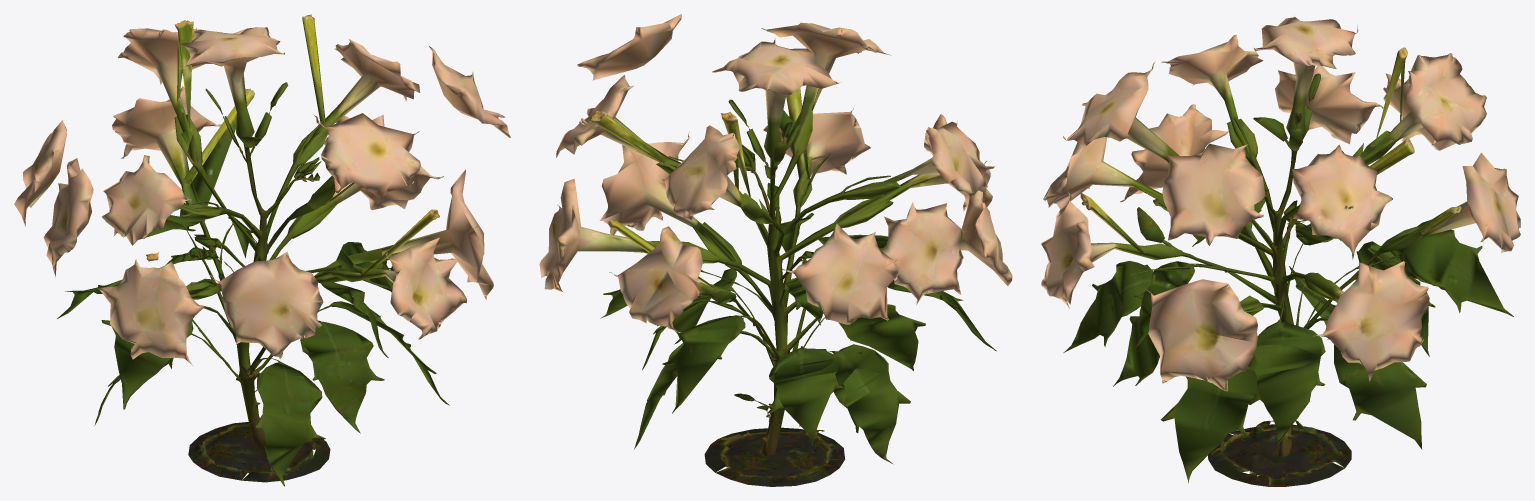
The model's file is ManTuoLuoHua.glb.
3 renders of one model, left to right at view 1: azimuth 30°, elevation 25°; view 2: azimuth 150°, elevation 25°; view 3: azimuth 270°, elevation 25°, orthographic.
Parts seen in each view (by area): view 1: tripo_node_64c2901f-b304-46fc-89b4-ee7e660b7f2e; view 2: tripo_node_64c2901f-b304-46fc-89b4-ee7e660b7f2e; view 3: tripo_node_64c2901f-b304-46fc-89b4-ee7e660b7f2e.
Part boxes in pixels (bbox=[...]): tripo_node_64c2901f-b304-46fc-89b4-ee7e660b7f2e: bbox=[14, 14, 510, 486]; tripo_node_64c2901f-b304-46fc-89b4-ee7e660b7f2e: bbox=[539, 14, 1012, 486]; tripo_node_64c2901f-b304-46fc-89b4-ee7e660b7f2e: bbox=[1041, 16, 1520, 486].
Size of the model in its own units: 0.998 by 0.9785 by 0.998.
Materials: 1 (1 with a texture image).
